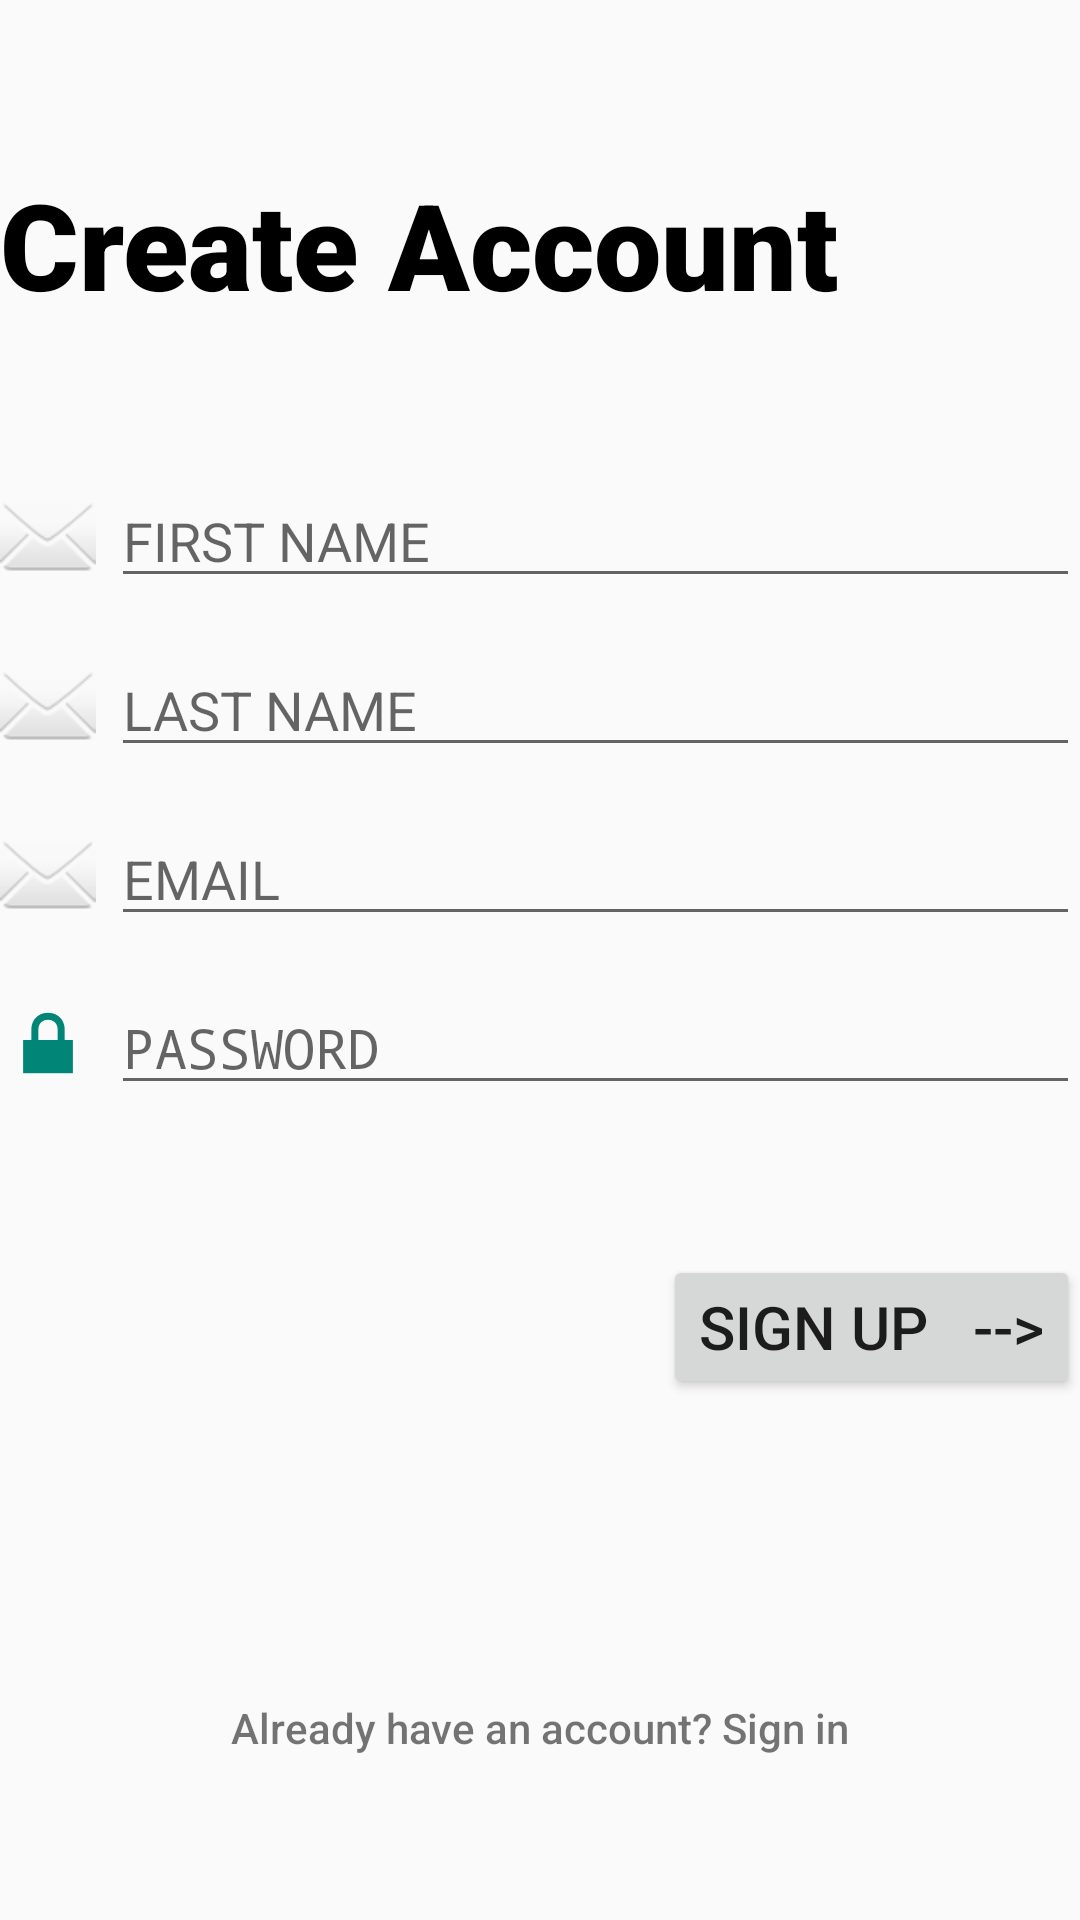

Named icons in this screenshot (1080x1920) and their bounding boxes, (x1, y1, x2, y2):
lock: (23, 1012, 73, 1074)
